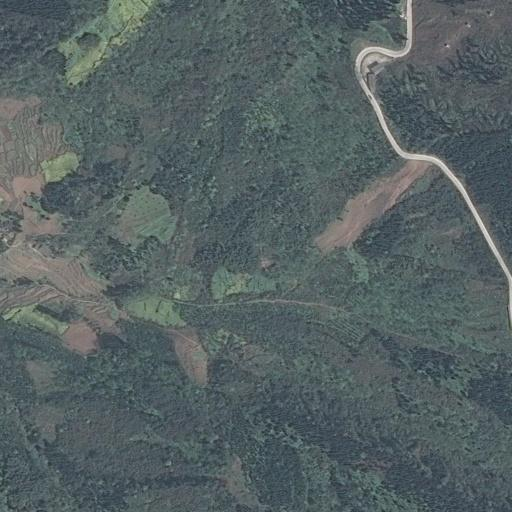landslide: (313, 160, 432, 252)
